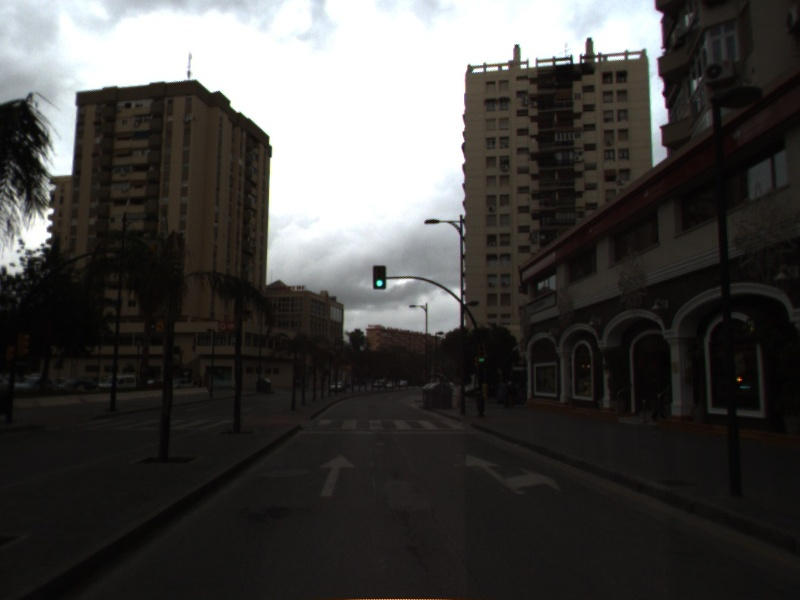STRAIGHT: (316, 451, 358, 499)
STRAIGHT_RIGHT: (462, 451, 563, 495)
